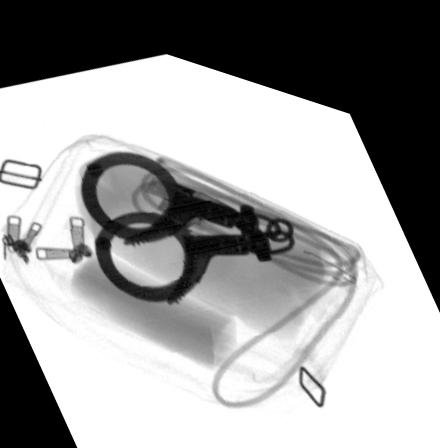HandCuffs: (76, 141, 294, 297)
